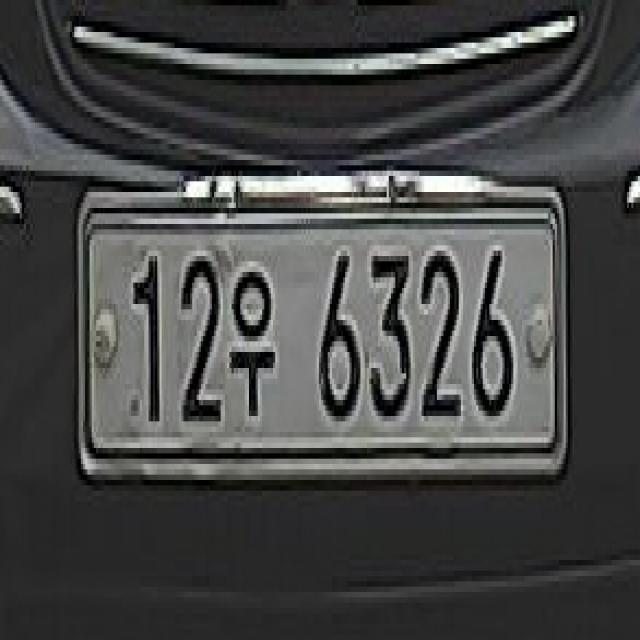1: (131, 251, 170, 432)
2: (415, 235, 470, 432), (177, 251, 225, 432)
3: (367, 245, 413, 427)
6: (472, 235, 522, 432), (315, 245, 367, 432)
license_plate: (72, 171, 572, 496)
u: (223, 251, 282, 421)
